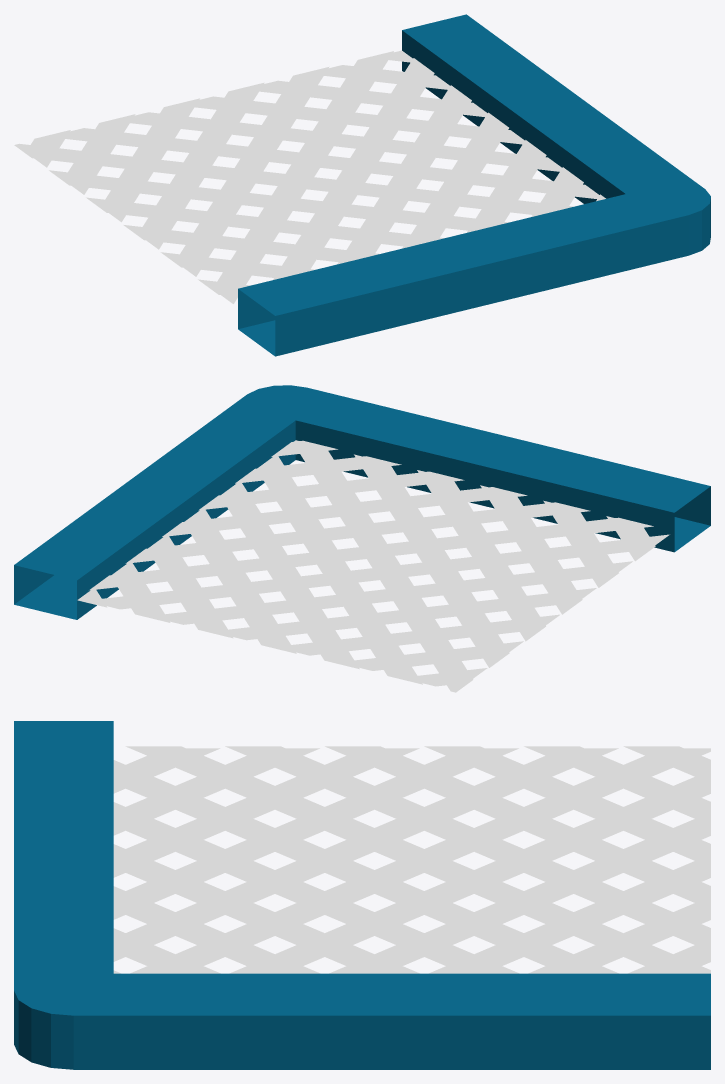
Rendered from G02_015_Floor_Mesh_AS.fbx.
3 views of the same model, one above another, from view 1: azimuth 30°, elevation 25°; view 2: azimuth 150°, elevation 25°; view 3: azimuth 270°, elevation 25° (orthographic). The views are drawn at different scales.
Parts seen in each view (by area): view 1: 平面.035, 004_Mesh_AS_B; view 2: 平面.035, 004_Mesh_AS_B; view 3: 平面.035, 004_Mesh_AS_B.
Boxes of the visible parts, left/top/right/bottom form: 平面.035: left=14, top=50, right=605, bottom=303; 004_Mesh_AS_B: left=238, top=14, right=710, bottom=356; 平面.035: left=77, top=440, right=669, bottom=692; 004_Mesh_AS_B: left=14, top=385, right=710, bottom=619; 平面.035: left=113, top=746, right=710, bottom=973; 004_Mesh_AS_B: left=14, top=721, right=710, bottom=1069.
Size of the model in its own units: 350 by 30 by 350.
